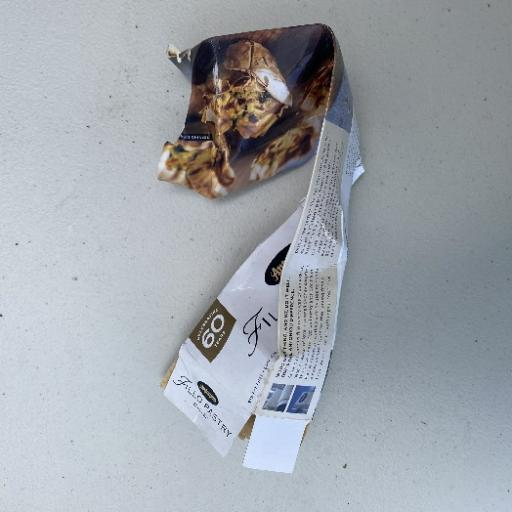Cardboard: (155, 22, 339, 200)
